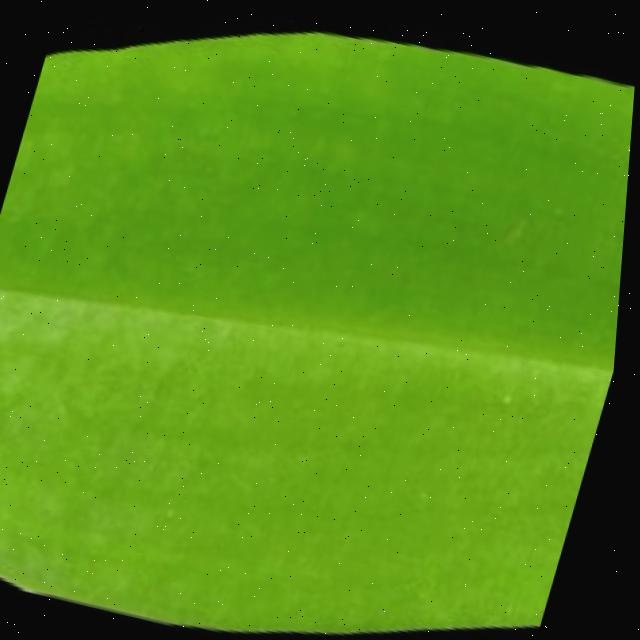mite: (597, 69, 636, 178), (617, 134, 633, 158), (620, 138, 633, 153)
spots: (0, 1, 636, 640)
